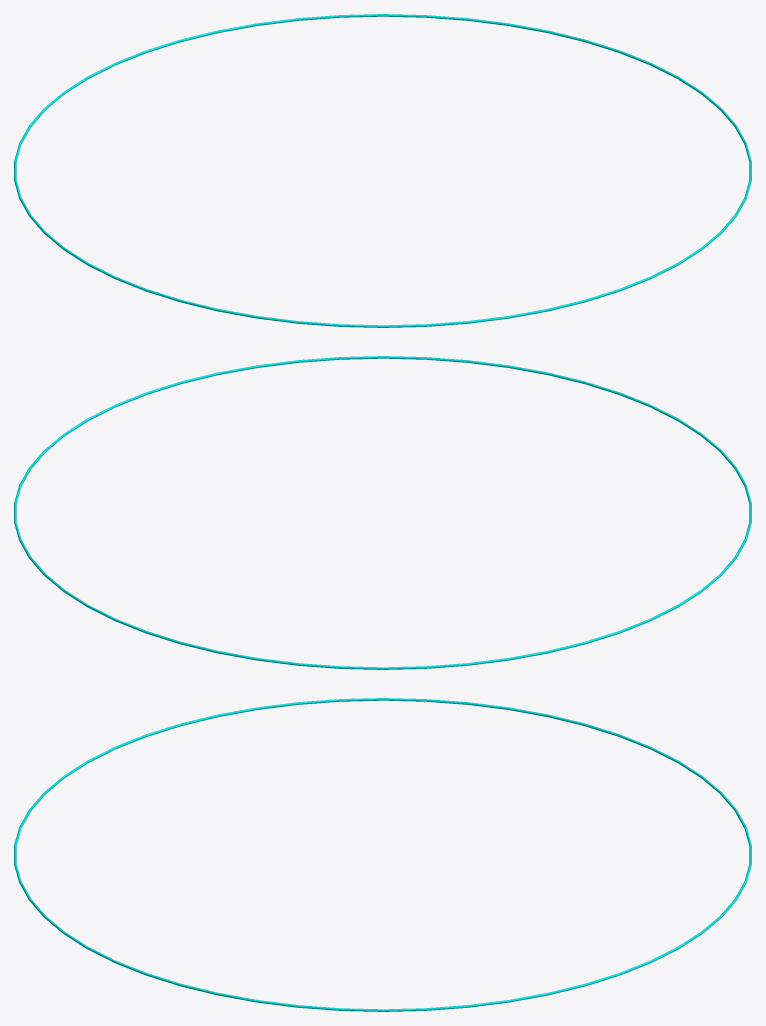
File: MSH_SmallSpline.fbx
The picture shows the model from 3 angles, top to bottom: view 1: azimuth 30°, elevation 25°; view 2: azimuth 150°, elevation 25°; view 3: azimuth 270°, elevation 25°; orthographic projection.
Parts seen in each view (by area): view 1: polySurface31; view 2: polySurface31; view 3: polySurface31.
Part boxes in pixels (x1,y1,x2,y2): polySurface31: (14, 14, 751, 327); polySurface31: (14, 356, 751, 669); polySurface31: (14, 698, 751, 1011).
Size of the model in its own units: 44.16 by 0.16 by 44.09.
